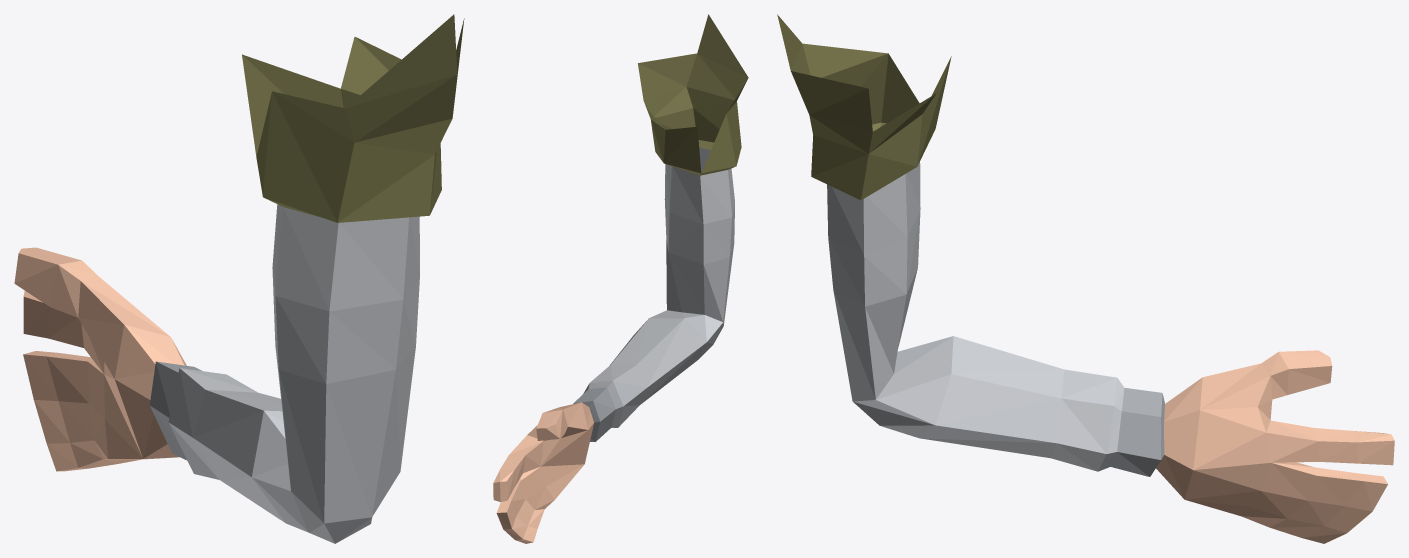
File: Daughter_01_ArmR_78_01_A.obj
The picture shows the model from 3 angles, left to right: view 1: azimuth 30°, elevation 25°; view 2: azimuth 150°, elevation 25°; view 3: azimuth 270°, elevation 25°; orthographic projection. The views are drawn at different scales.
Parts seen in each view (by area): view 1: Daughter_01_ArmR_78_01_A; view 2: Daughter_01_ArmR_78_01_A; view 3: Daughter_01_ArmR_78_01_A.
Boxes of the visible parts, <box> form: Daughter_01_ArmR_78_01_A: <box>14,14,464,543</box>; Daughter_01_ArmR_78_01_A: <box>493,14,748,543</box>; Daughter_01_ArmR_78_01_A: <box>777,14,1394,543</box>.
Bounding box in the file's own units: 0.1622 × 0.5764 × 0.5989.
1 material, 1 textured.
